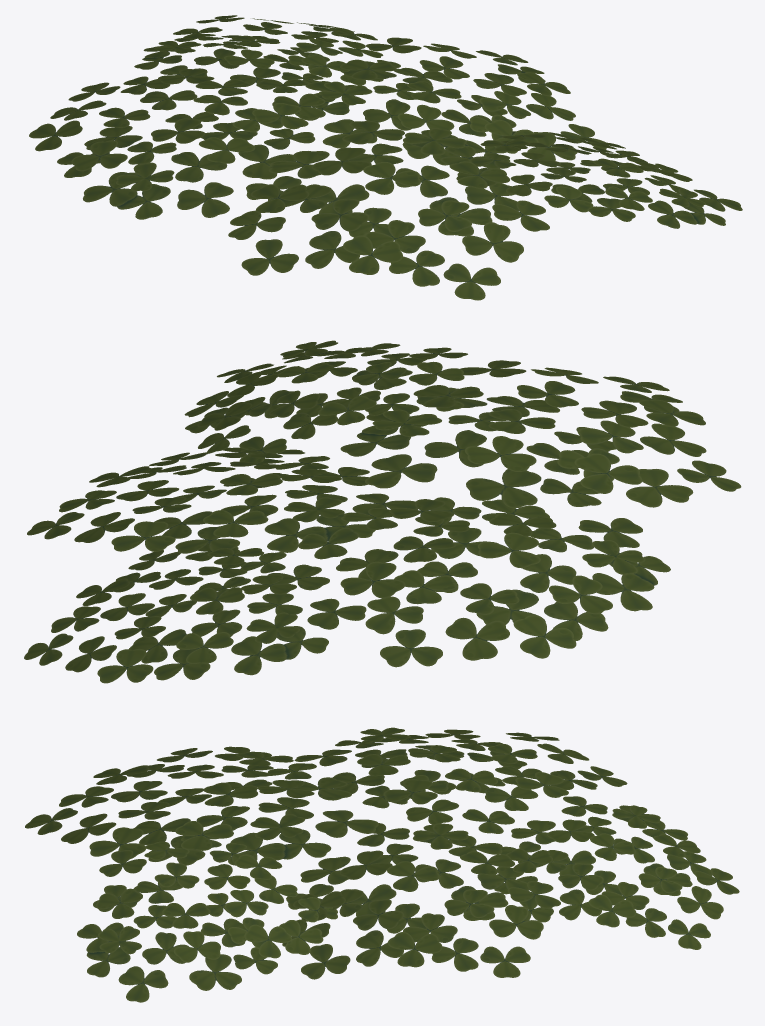
The model's file is MSH_fwOF_Clover_04.fbx.
The picture shows the model from 3 angles, top to bottom: view 1: azimuth 30°, elevation 25°; view 2: azimuth 150°, elevation 25°; view 3: azimuth 270°, elevation 25°; orthographic projection. The views are drawn at different scales.
Parts seen in each view (by area): view 1: MSH_fwOF_Clover_04; view 2: MSH_fwOF_Clover_04; view 3: MSH_fwOF_Clover_04.
Part boxes in pixels (x1,y1,x2,y2): MSH_fwOF_Clover_04: (29,15,742,300); MSH_fwOF_Clover_04: (24,340,741,683); MSH_fwOF_Clover_04: (25,727,739,1002).
Bounding box in the file's own units: 0.4435 × 0.0634 × 0.5537.
